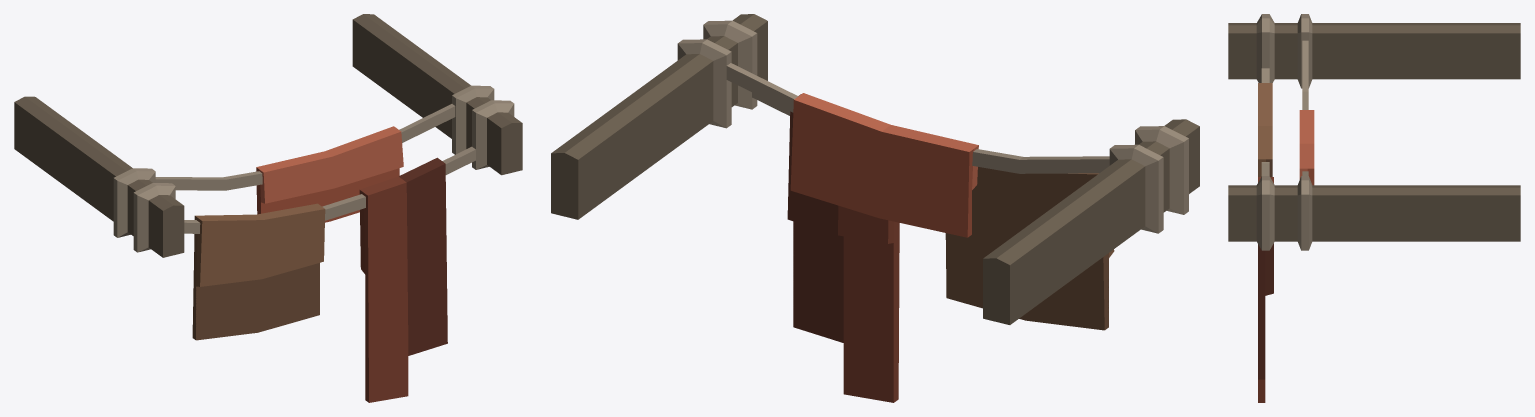
The model's file is SM_Prop_ClothesLine_01.glb.
The picture shows the model from 3 angles, left to right: view 1: azimuth 30°, elevation 25°; view 2: azimuth 150°, elevation 25°; view 3: azimuth 270°, elevation 25°; orthographic projection. The views are drawn at different scales.
Visible parts, largest first — view 1: SM_Prop_ClothesLine_01; view 2: SM_Prop_ClothesLine_01; view 3: SM_Prop_ClothesLine_01.
Part boxes in pixels (box(x1,y1,x2,y2)): SM_Prop_ClothesLine_01: box(14, 14, 522, 402); SM_Prop_ClothesLine_01: box(551, 14, 1199, 402); SM_Prop_ClothesLine_01: box(1228, 14, 1520, 402).
Size of the model in its own units: 0.015 by 0.0103 by 0.0103.
1 material, 1 textured.
